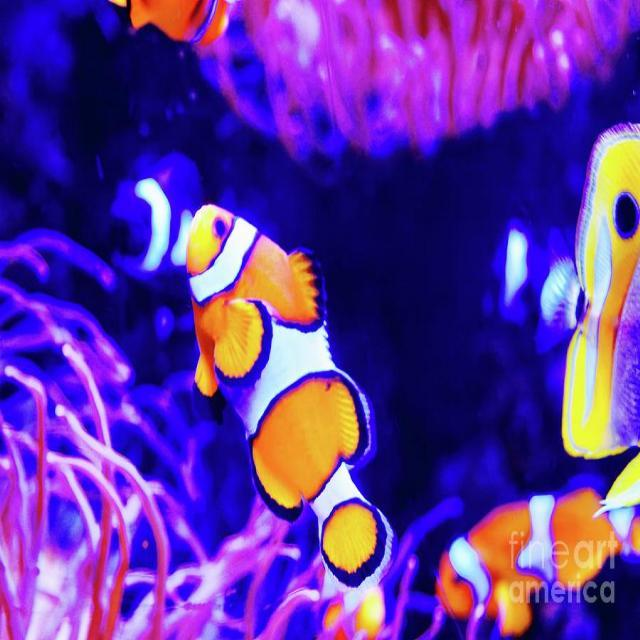ClownFish: (185, 202, 394, 590), (439, 489, 635, 630)
